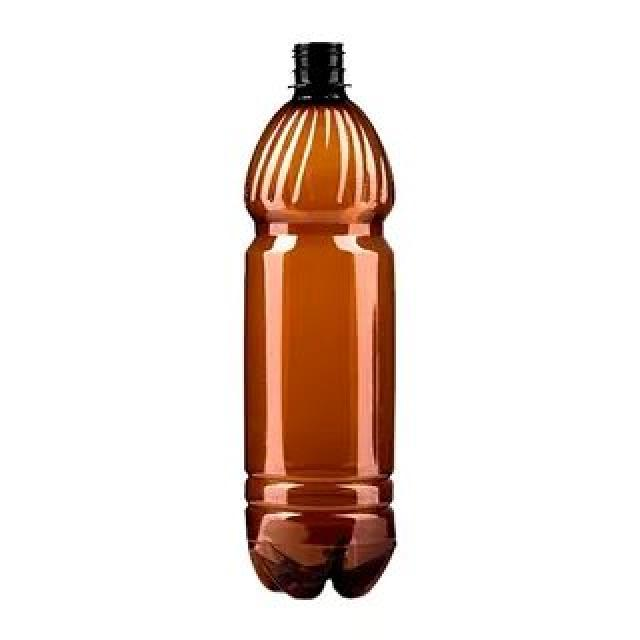brown: (245, 40, 395, 598)
